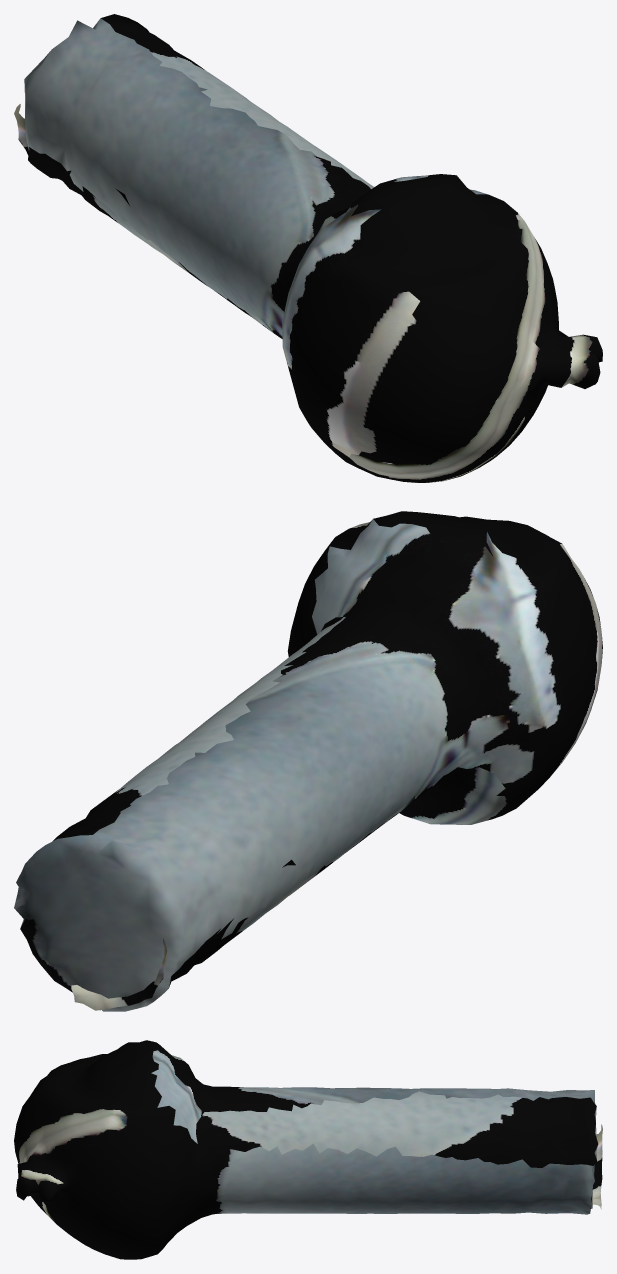
File: scan_align.obj
3 views of the same model, one above another, from view 1: azimuth 30°, elevation 25°; view 2: azimuth 150°, elevation 25°; view 3: azimuth 270°, elevation 25° (orthographic). The views are drawn at different scales.
Bounding box in the file's own units: 0.0312 × 0.0342 × 0.0911.
